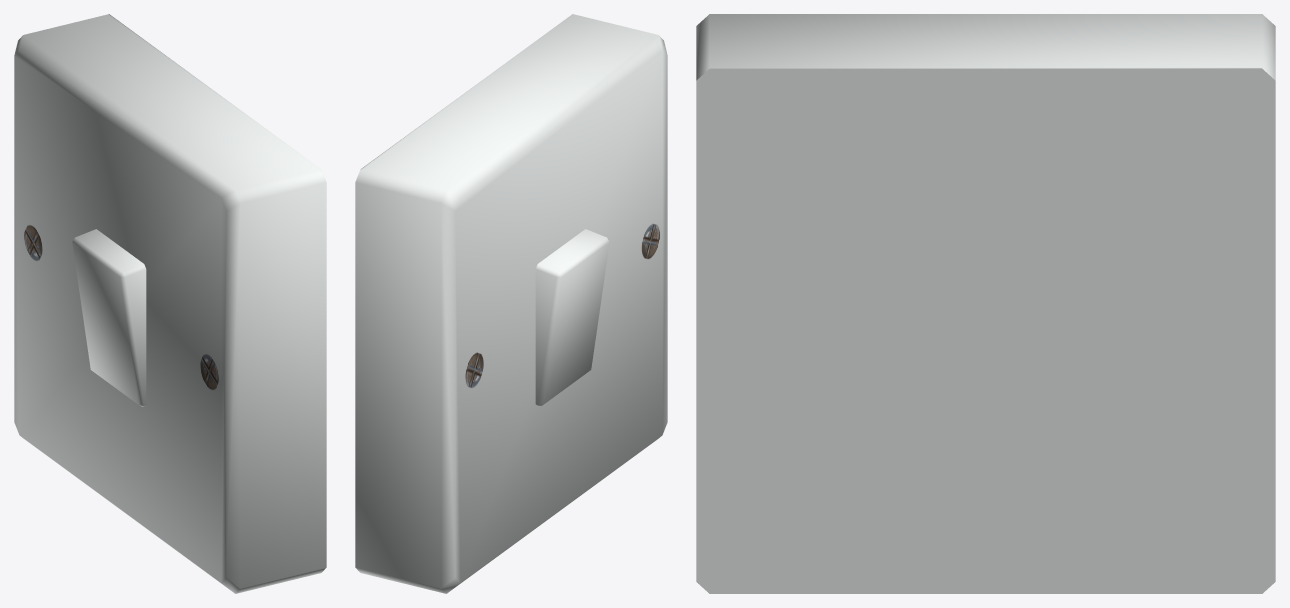
File: LightSwitch.FBX
3 views of the same model, side by side, from view 1: azimuth 30°, elevation 25°; view 2: azimuth 150°, elevation 25°; view 3: azimuth 270°, elevation 25° (orthographic). The views are drawn at different scales.
Visible parts, largest first — view 1: Light_Switch01; view 2: Light_Switch01; view 3: Light_Switch01.
Part boxes in pixels (<box>): Light_Switch01: <box>14,14,326,593</box>; Light_Switch01: <box>355,14,667,593</box>; Light_Switch01: <box>696,14,1275,593</box>.
Size of the model in its own units: 1.05 by 3.39 by 3.39.
1 material, 1 textured.
